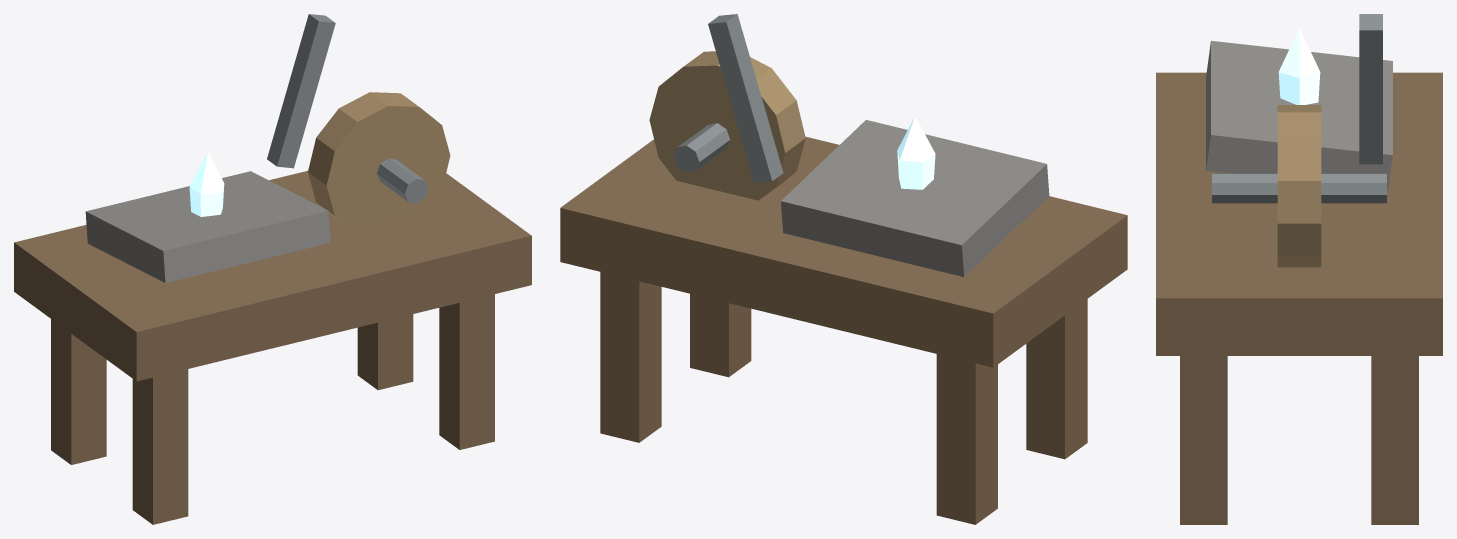
File: rune-engraver.glb
3 views of the same model, side by side, from view 1: azimuth 30°, elevation 25°; view 2: azimuth 150°, elevation 25°; view 3: azimuth 270°, elevation 25° (orthographic). The views are drawn at different scales.
Parts seen in each view (by area): view 1: bench, tablet, engraving-wheel, leg--0.52-0.24, leg-0.52-0.24, leg--0.52--0.24, stylus-arm, leg-0.52--0.24, focus-chip, wheel-axle; view 2: bench, tablet, engraving-wheel, leg--0.52--0.24, leg-0.52--0.24, leg--0.52-0.24, stylus-arm, leg-0.52-0.24, focus-chip, wheel-axle; view 3: bench, tablet, leg-0.52--0.24, leg-0.52-0.24, engraving-wheel, wheel-axle, stylus-arm, focus-chip.
Boxes of the visible parts, x1=… form: bench: x1=14, y1=171, x2=531, y2=381; tablet: x1=85, y1=171, x2=330, y2=282; engraving-wheel: x1=308, y1=92, x2=450, y2=228; leg--0.52-0.24: x1=132, y1=369, x2=188, y2=524; leg-0.52-0.24: x1=439, y1=294, x2=494, y2=449; leg--0.52--0.24: x1=51, y1=319, x2=106, y2=464; stylus-arm: x1=267, y1=14, x2=335, y2=168; leg-0.52--0.24: x1=357, y1=314, x2=413, y2=390; focus-chip: x1=189, y1=152, x2=224, y2=216; wheel-axle: x1=377, y1=158, x2=428, y2=203; bench: x1=560, y1=136, x2=1127, y2=367; tablet: x1=781, y1=120, x2=1049, y2=276; engraving-wheel: x1=649, y1=51, x2=805, y2=200; leg--0.52--0.24: x1=936, y1=354, x2=997, y2=524; leg-0.52--0.24: x1=600, y1=272, x2=661, y2=442; leg--0.52-0.24: x1=1026, y1=299, x2=1087, y2=459; stylus-arm: x1=708, y1=14, x2=783, y2=182; leg-0.52-0.24: x1=690, y1=294, x2=751, y2=377; focus-chip: x1=897, y1=116, x2=935, y2=189; wheel-axle: x1=673, y1=123, x2=730, y2=172; bench: x1=1156, y1=72, x2=1442, y2=355; tablet: x1=1206, y1=40, x2=1392, y2=190; leg-0.52--0.24: x1=1371, y1=356, x2=1418, y2=524; leg-0.52-0.24: x1=1180, y1=356, x2=1227, y2=524; engraving-wheel: x1=1277, y1=105, x2=1321, y2=267; wheel-axle: x1=1212, y1=173, x2=1386, y2=203; stylus-arm: x1=1359, y1=14, x2=1382, y2=164; focus-chip: x1=1278, y1=28, x2=1320, y2=104.
Size of the model in its own units: 1.34 by 1.26 by 0.72.
